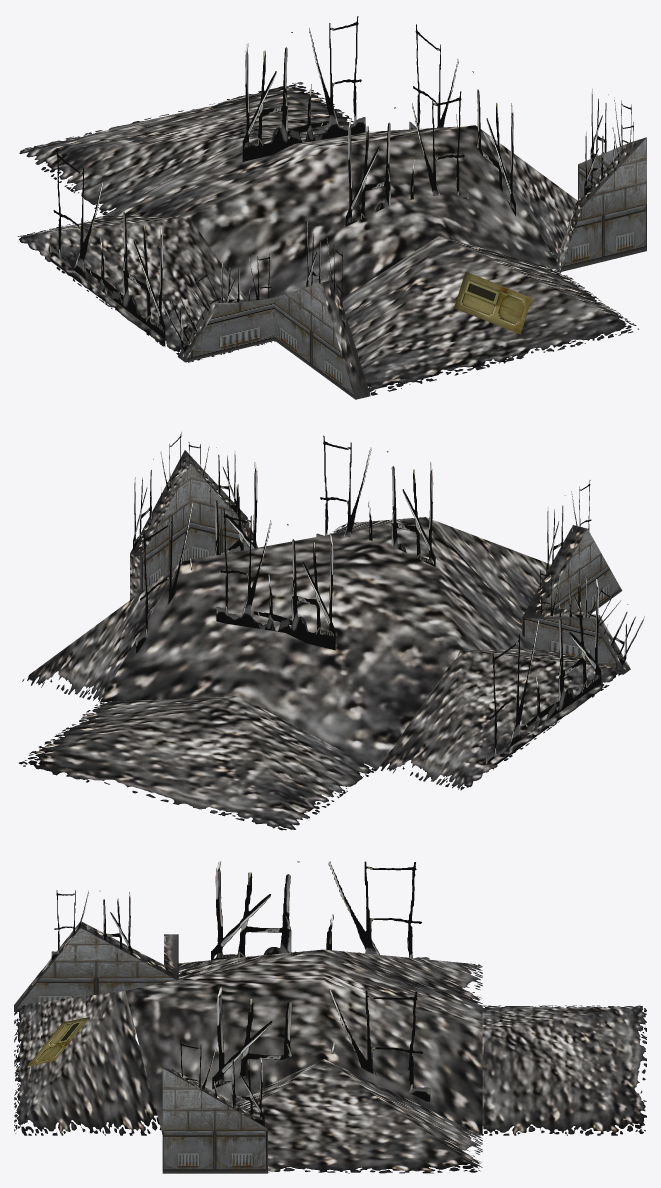
File: s_admin_entry_dam_hdtex.glb
3 views of the same model, one above another, from view 1: azimuth 30°, elevation 25°; view 2: azimuth 150°, elevation 25°; view 3: azimuth 270°, elevation 25° (orthographic). The views are drawn at different scales.
Visible parts, largest first — view 1: Plane01; view 2: Plane01; view 3: Plane01.
Part boxes in pixels (x1,y1,x2,y2): Plane01: (17, 16, 646, 399); Plane01: (19, 432, 644, 830); Plane01: (14, 861, 646, 1173).
Size of the model in its own units: 22.47 by 8.37 by 27.51.
5 materials, 5 textured.
